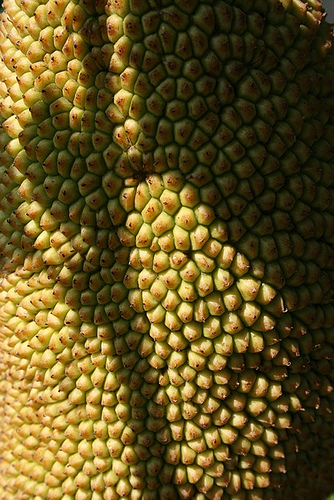jackfruit: (1, 11, 327, 487)
